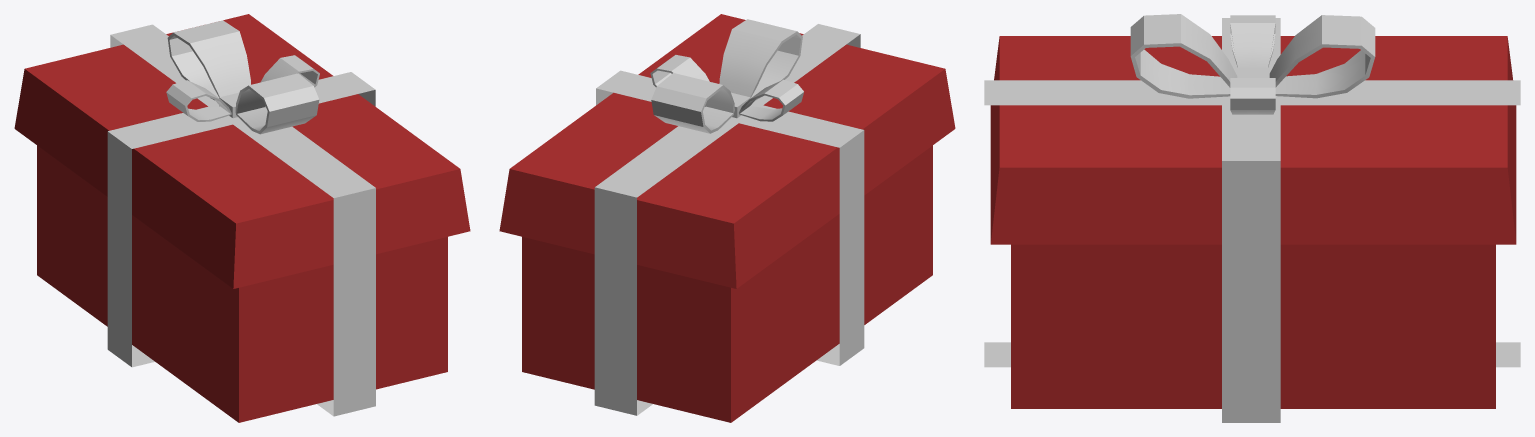
File: M_Gift_02.FBX
3 renders of one model, left to right at view 1: azimuth 30°, elevation 25°; view 2: azimuth 150°, elevation 25°; view 3: azimuth 270°, elevation 25°, orthographic. The views are drawn at different scales.
Visible parts, largest first — view 1: Object010; view 2: Object010; view 3: Object010.
Boxes of the visible parts, x1=… form: Object010: x1=14, y1=14, x2=470, y2=422; Object010: x1=499, y1=14, x2=955, y2=422; Object010: x1=984, y1=14, x2=1520, y2=422.
Size of the model in its own units: 51.81 by 55.24 by 82.24.
